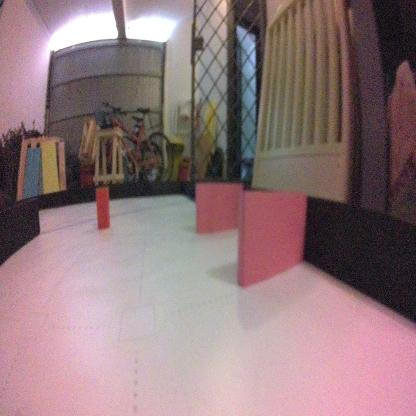magenta: (236, 188, 306, 291), (194, 178, 245, 235)
red: (96, 185, 110, 231)
